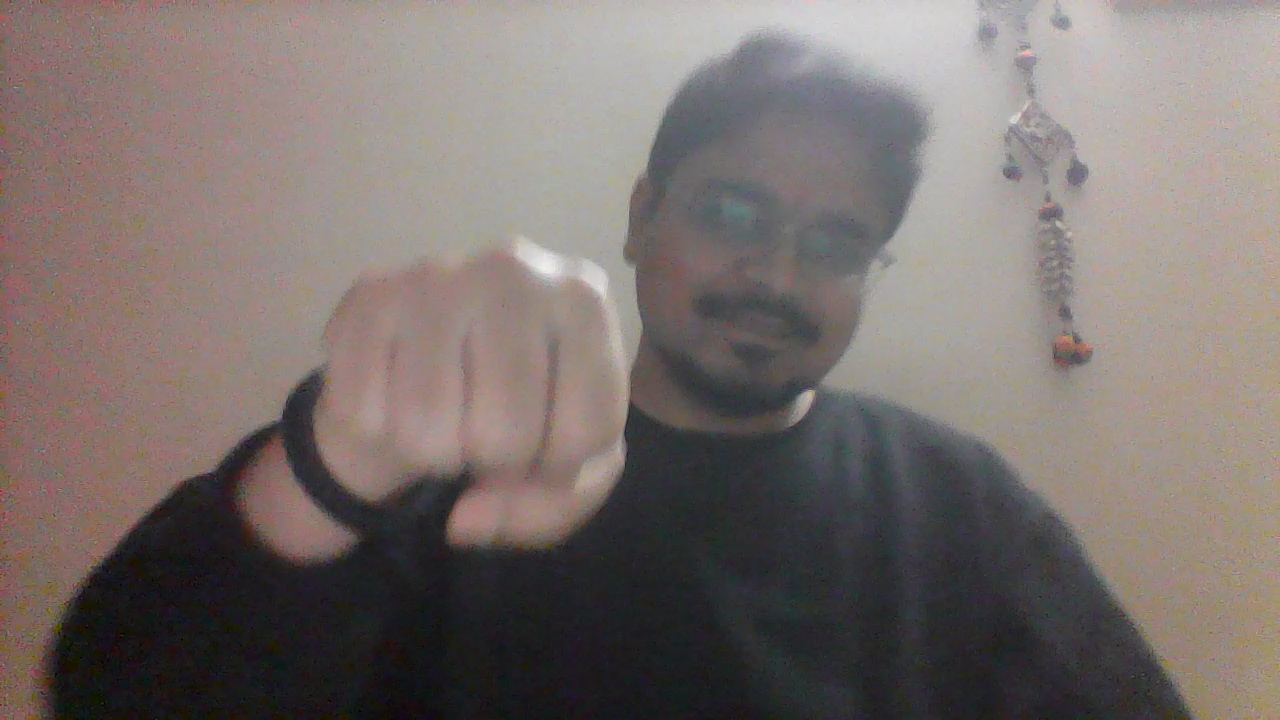Yes: (313, 229, 632, 557)
